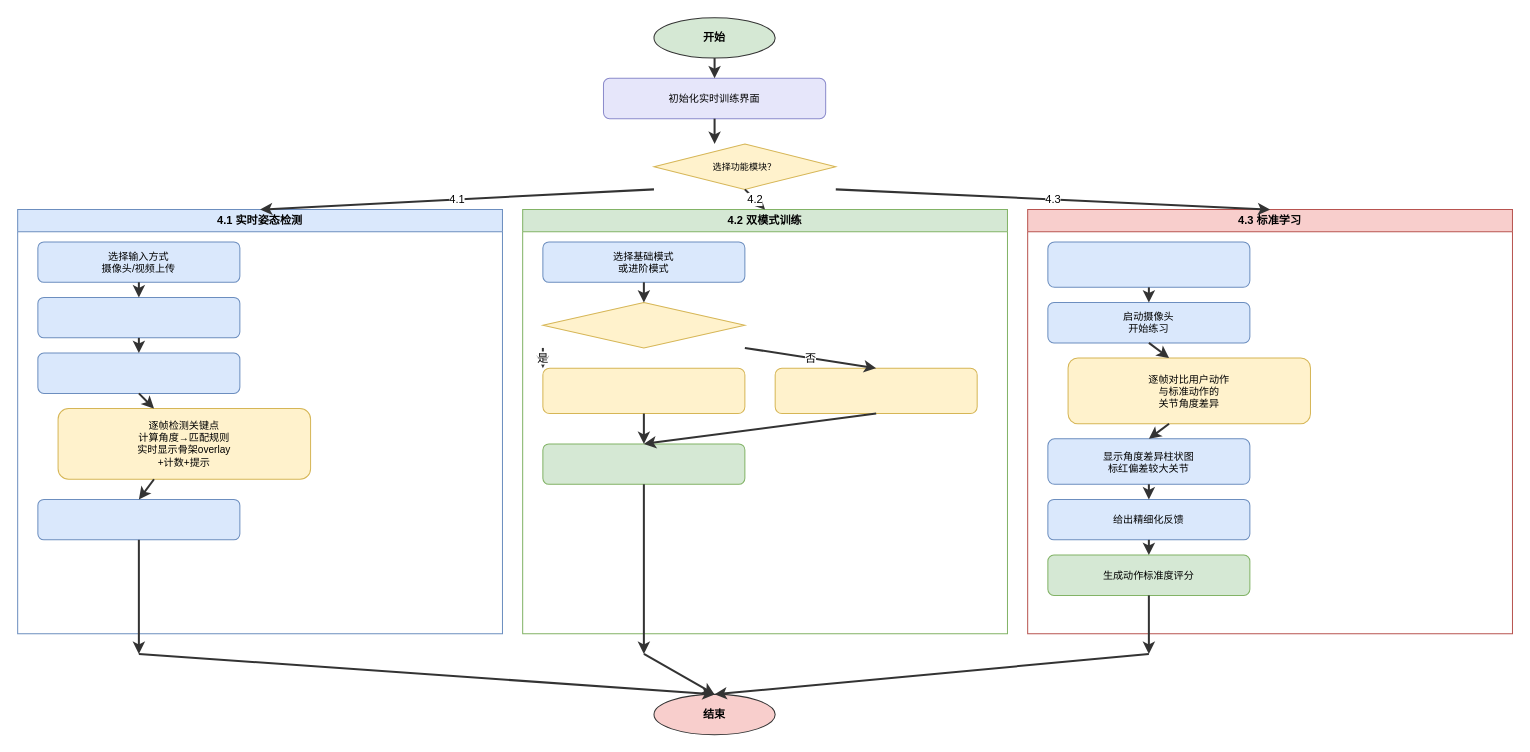
Some shapes in this 1530 by 752 pixel diagram are drawn without their labels. The box of each missing label's shape, as (x1, y1, x2, y2) in pixels:
加载标准示范视频 和标准关键点数据: (1047, 241, 1250, 287)
基础模式？: (542, 301, 745, 348)
完成即计数 仅危险动作报警: (542, 367, 745, 414)
显示训练结果: (542, 443, 745, 484)
点击开始 启动实时检测: (37, 352, 240, 393)
点击结束 停止检测: (37, 498, 240, 540)
达标才计数 全偏差检测并评分: (774, 367, 977, 414)
选择动作类型 或处方跟练: (37, 296, 240, 338)
